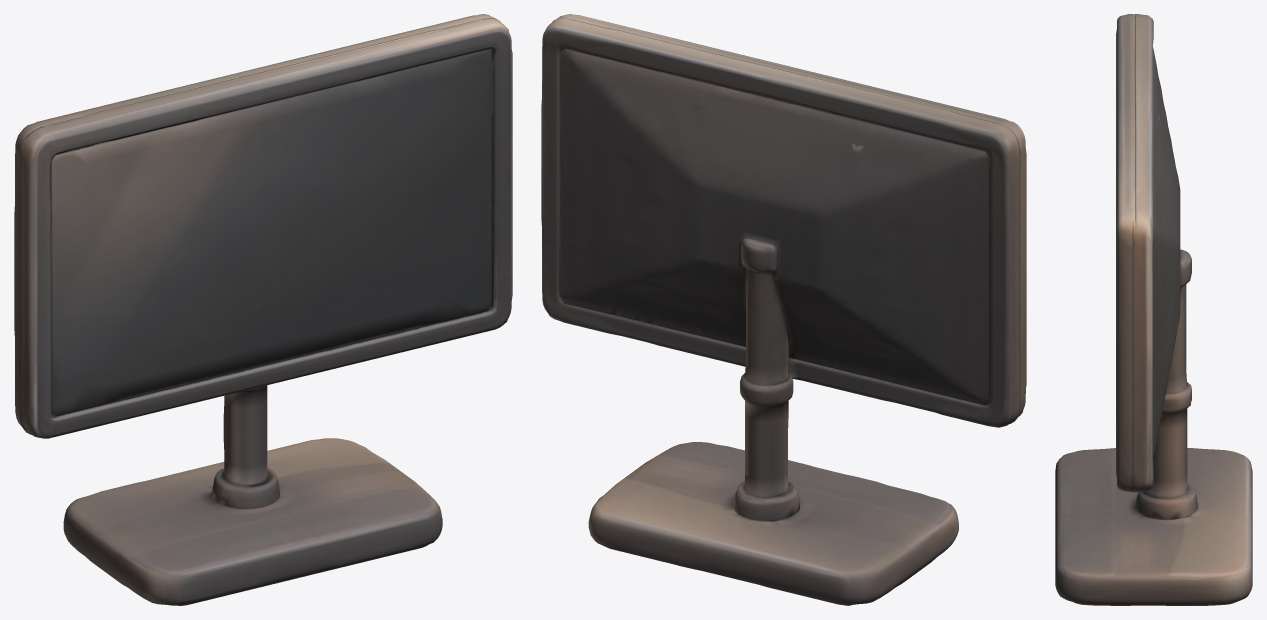
Rendered from floor-tv-stylized-v2.glb.
3 renders of one model, left to right at view 1: azimuth 30°, elevation 25°; view 2: azimuth 150°, elevation 25°; view 3: azimuth 270°, elevation 25°, orthographic. The views are drawn at different scales.
Parts seen in each view (by area): view 1: floor-tv-stylized-v2; view 2: floor-tv-stylized-v2; view 3: floor-tv-stylized-v2.
Part boxes in pixels (box(x1,y1,x2,y2)): floor-tv-stylized-v2: box(14, 14, 512, 605); floor-tv-stylized-v2: box(541, 14, 1026, 605); floor-tv-stylized-v2: box(1055, 14, 1252, 605).
Bounding box in the file's own units: 1.44 × 1.35 × 0.5609.
Materials: 1 (1 with a texture image).
